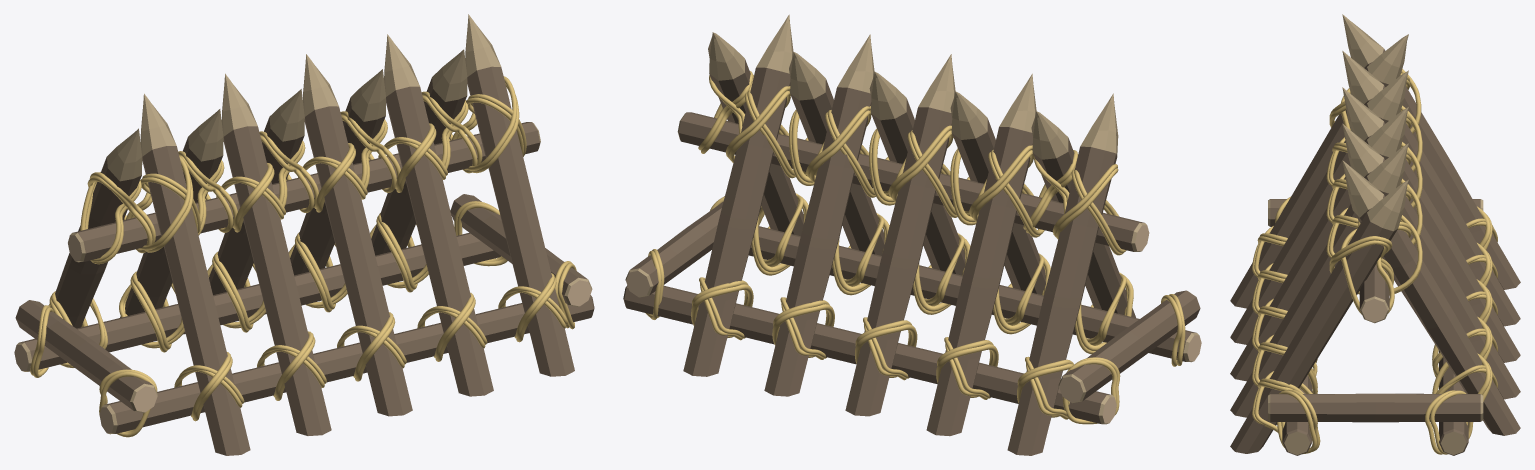
File: Barricade.fbx
3 renders of one model, left to right at view 1: azimuth 30°, elevation 25°; view 2: azimuth 150°, elevation 25°; view 3: azimuth 270°, elevation 25°, orthographic. The views are drawn at different scales.
Parts seen in each view (by area): view 1: Cylinder.003, Cylinder.002, Cylinder, Cylinder.007, Cylinder.004, BézierCircle, BézierCircle.002, BézierCircle.024, BézierCircle.008, BézierCircle.061; view 2: Cylinder.002, Cylinder.003, Cylinder, Cylinder.007, Cylinder.004, BézierCircle.003, BézierCircle.001, BézierCircle.082, BézierCircle.061, BézierCircle.078; view 3: Cylinder.003, Cylinder.002, Cylinder.007, Cylinder, Cylinder.004, BézierCircle.006, BézierCircle, BézierCircle.007, BézierCircle.003, BézierCircle.059, BézierCircle.008, BézierCircle.081 (+5 smaller).
Boxes of the visible parts, box(x1,y1,x2,y2) form: Cylinder.003: box(140, 14, 574, 455); Cylinder.002: box(50, 49, 467, 328); Cylinder: box(14, 232, 594, 434); Cylinder.007: box(15, 194, 592, 412); Cylinder.004: box(68, 122, 540, 262); BézierCircle: box(99, 263, 576, 437); BézierCircle.002: box(33, 203, 507, 377); BézierCircle.024: box(126, 156, 191, 250); BézierCircle.008: box(452, 76, 517, 170); BézierCircle.061: box(80, 172, 139, 261); Cylinder.002: box(683, 14, 1118, 455); Cylinder.003: box(708, 32, 1135, 317); Cylinder: box(623, 226, 1201, 424); Cylinder.007: box(625, 202, 1200, 403); Cylinder.004: box(677, 112, 1149, 251); BézierCircle.003: box(645, 250, 1117, 424); BézierCircle.001: box(710, 196, 1182, 366); BézierCircle.082: box(691, 284, 753, 338); BézierCircle.061: box(1074, 169, 1126, 252); BézierCircle.078: box(772, 304, 834, 357); Cylinder.003: box(1230, 34, 1408, 453); Cylinder.002: box(1342, 14, 1520, 435); Cylinder.007: box(1268, 199, 1483, 422); Cylinder: box(1282, 351, 1468, 455); Cylinder.004: box(1359, 264, 1389, 323); BézierCircle.006: box(1341, 228, 1394, 311); BézierCircle: box(1275, 196, 1317, 454); BézierCircle.007: box(1329, 240, 1393, 294); BézierCircle.003: box(1430, 390, 1473, 454); BézierCircle.059: box(1358, 215, 1422, 293); BézierCircle.008: box(1329, 236, 1393, 276); BézierCircle.081: box(1432, 353, 1490, 394).
Size of the model in its own units: 1982 by 1150 by 1129.
